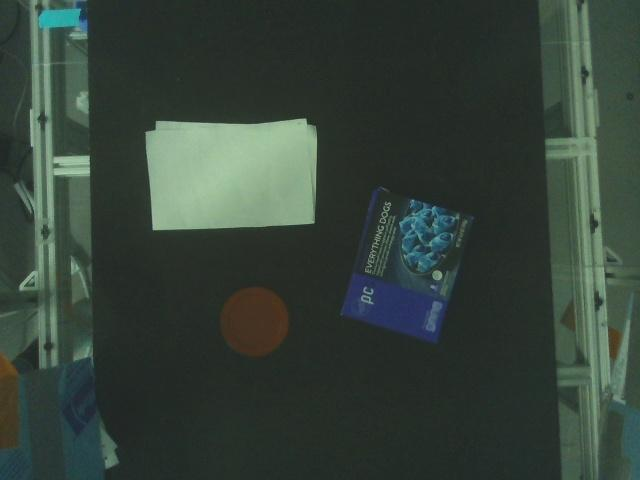cardboard: (341, 188, 473, 344)
paper: (144, 117, 319, 231)
plastic: (222, 286, 289, 356)
